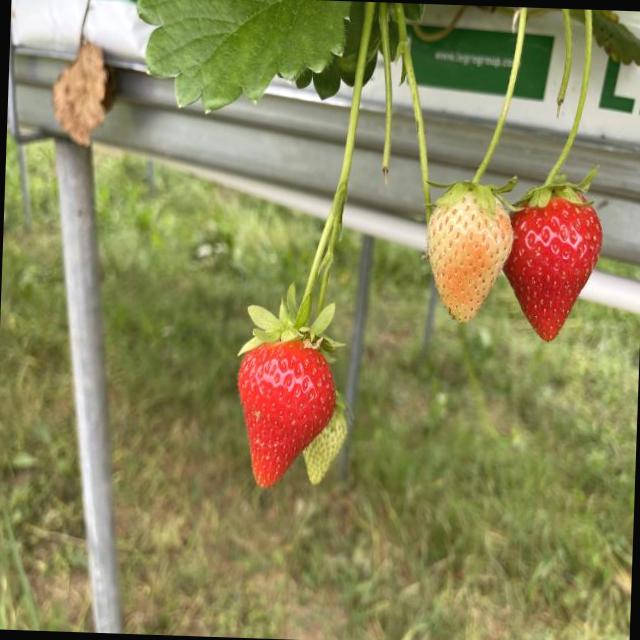stem: (239, 72, 361, 352), (436, 7, 526, 212), (516, 71, 597, 207)
strawberryNR: (426, 192, 512, 320)
strawberryR: (237, 342, 333, 485), (505, 198, 599, 339)
